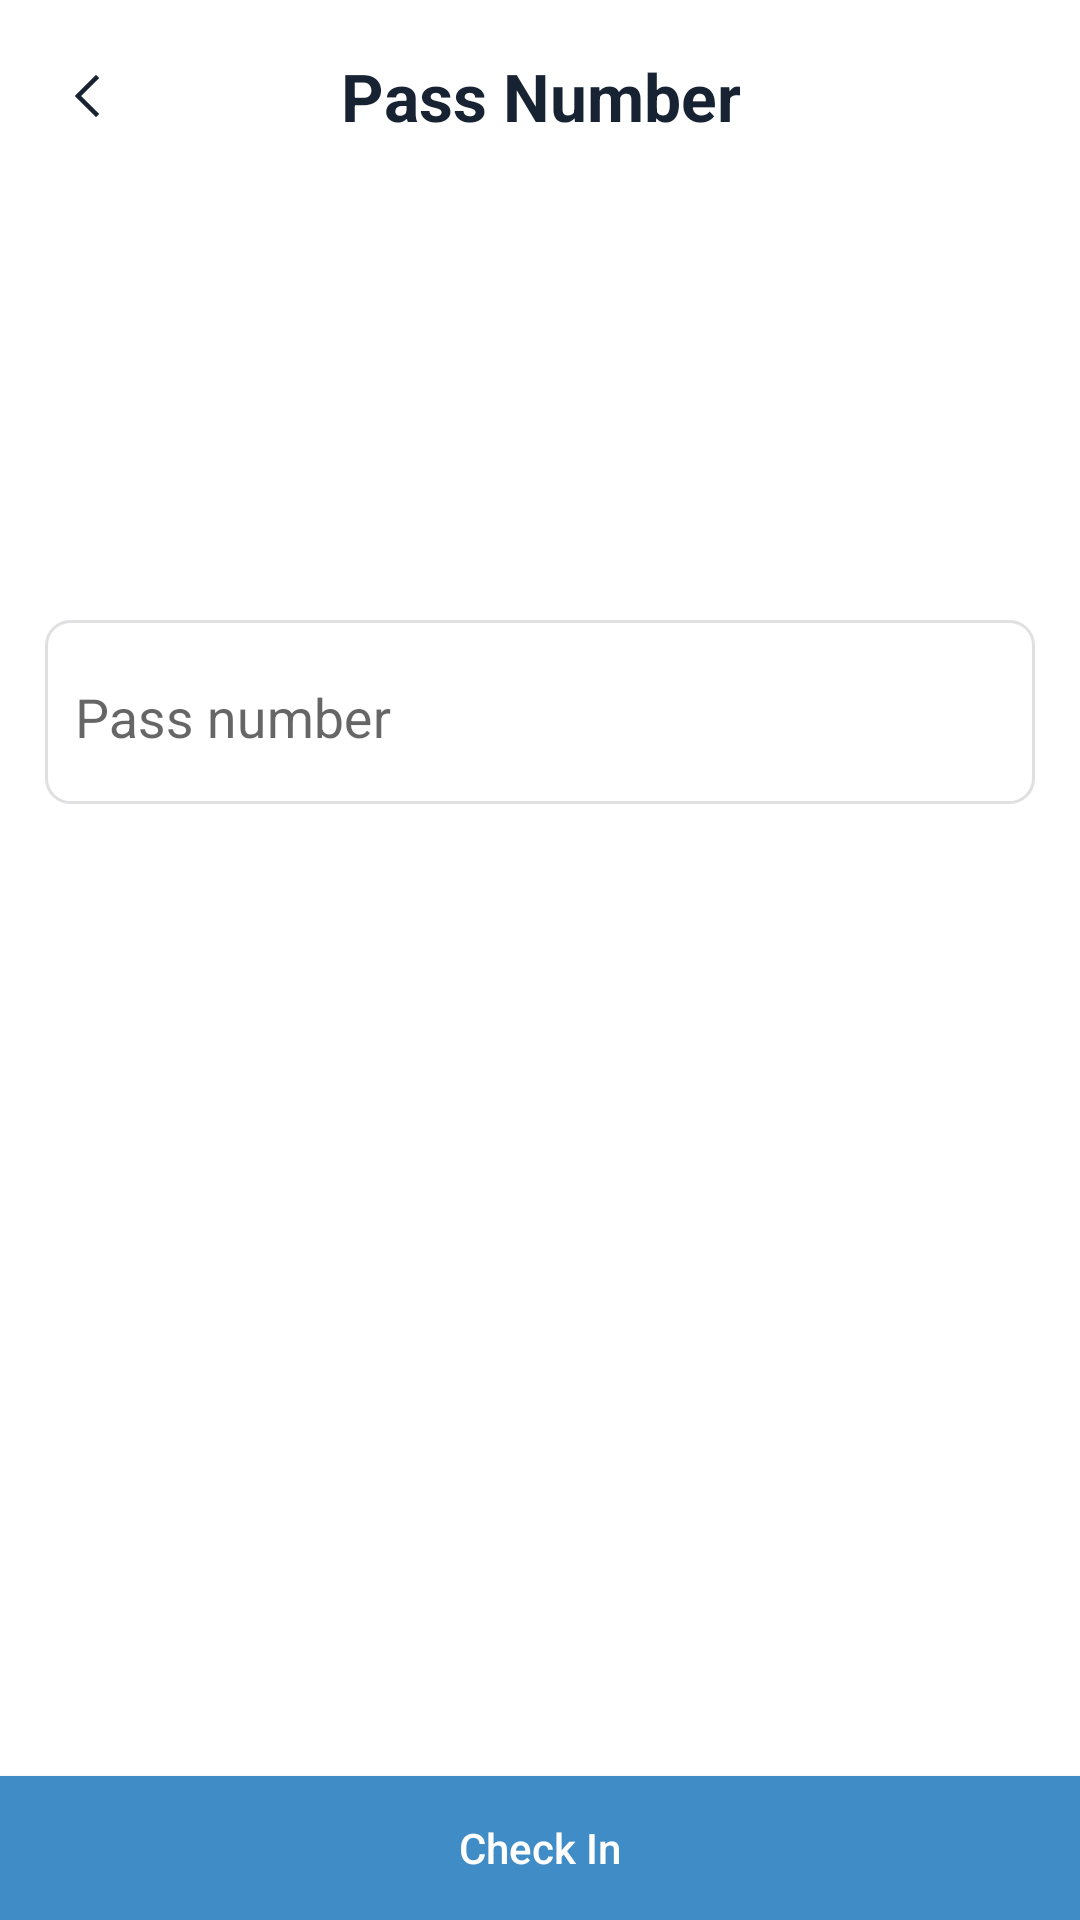

Point at icon controls on the screen. Image size 1080x1920, points as [x,y].
back: [87,96]
